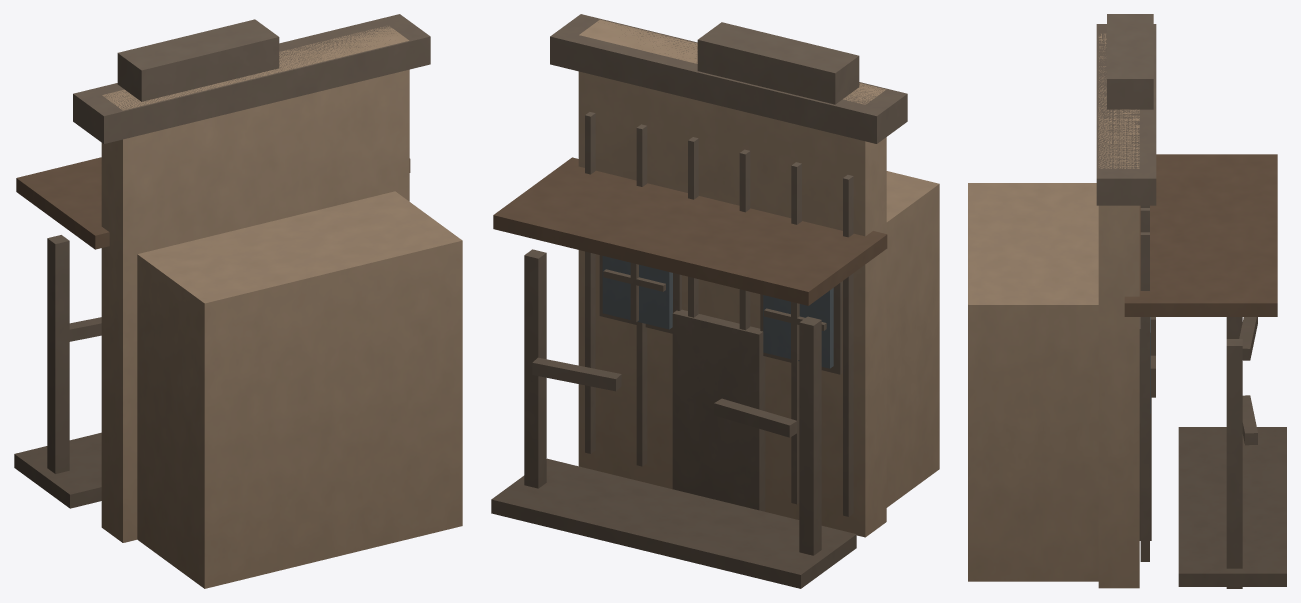
File: hero_town_assay.glb
3 renders of one model, left to right at view 1: azimuth 30°, elevation 25°; view 2: azimuth 150°, elevation 25°; view 3: azimuth 270°, elevation 25°, orthographic. The views are drawn at different scales.
Visible parts, largest first — view 1: hero_town_assay; view 2: hero_town_assay; view 3: hero_town_assay.
Part boxes in pixels (box(x1,y1,x2,y2)): hero_town_assay: box(14, 14, 462, 588); hero_town_assay: box(491, 14, 939, 588); hero_town_assay: box(968, 14, 1286, 588).
Size of the model in its own units: 1.96 by 2.66 by 1.71.
1 material, 1 textured.
